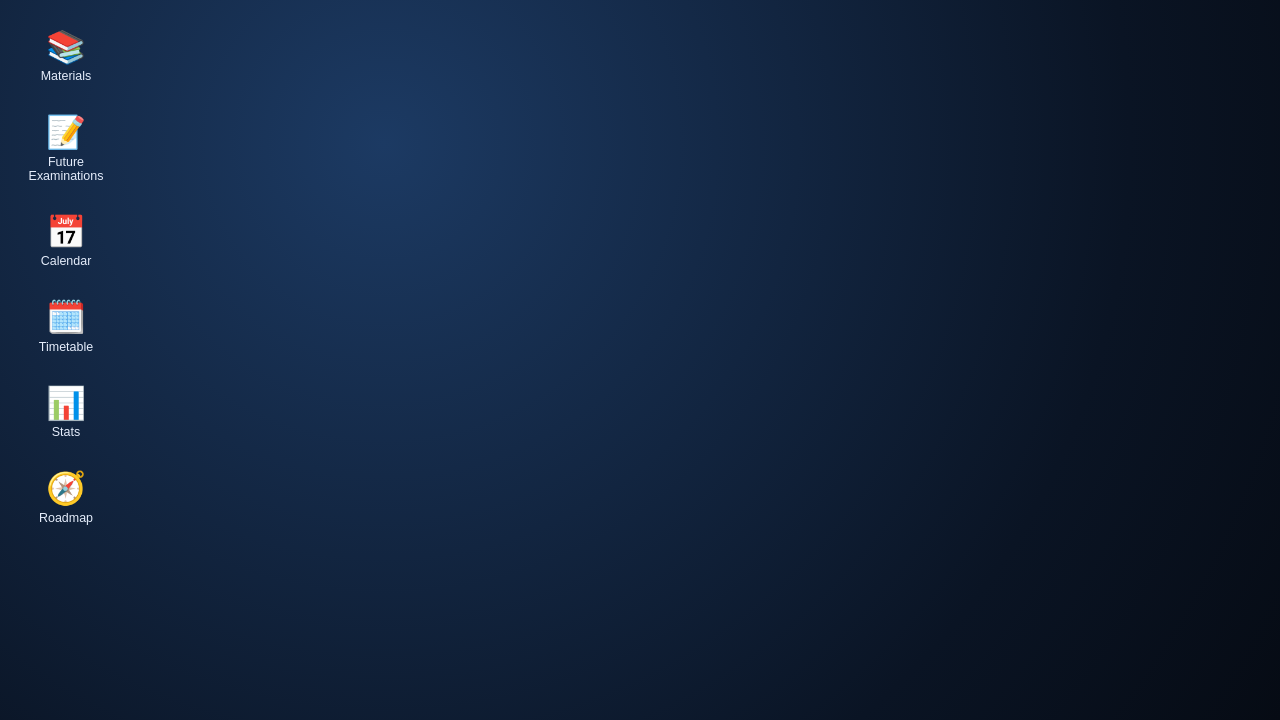
Test: DesktopEnvironment › supports multiple simultaneously open windows
Click the list item with test id "desktop-icon-materials" at [66, 57], box [20,20,112,94]
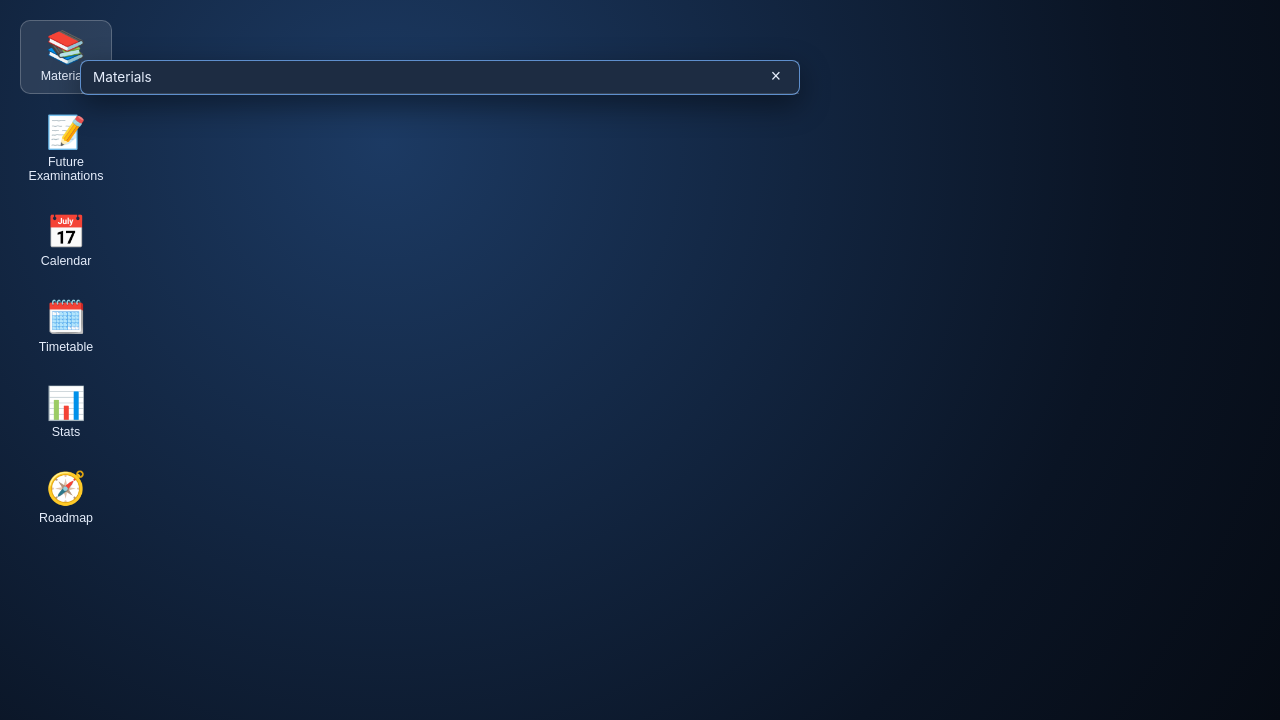
Click the list item with test id "desktop-icon-calendar" at [66, 242], box [20,205,112,279]
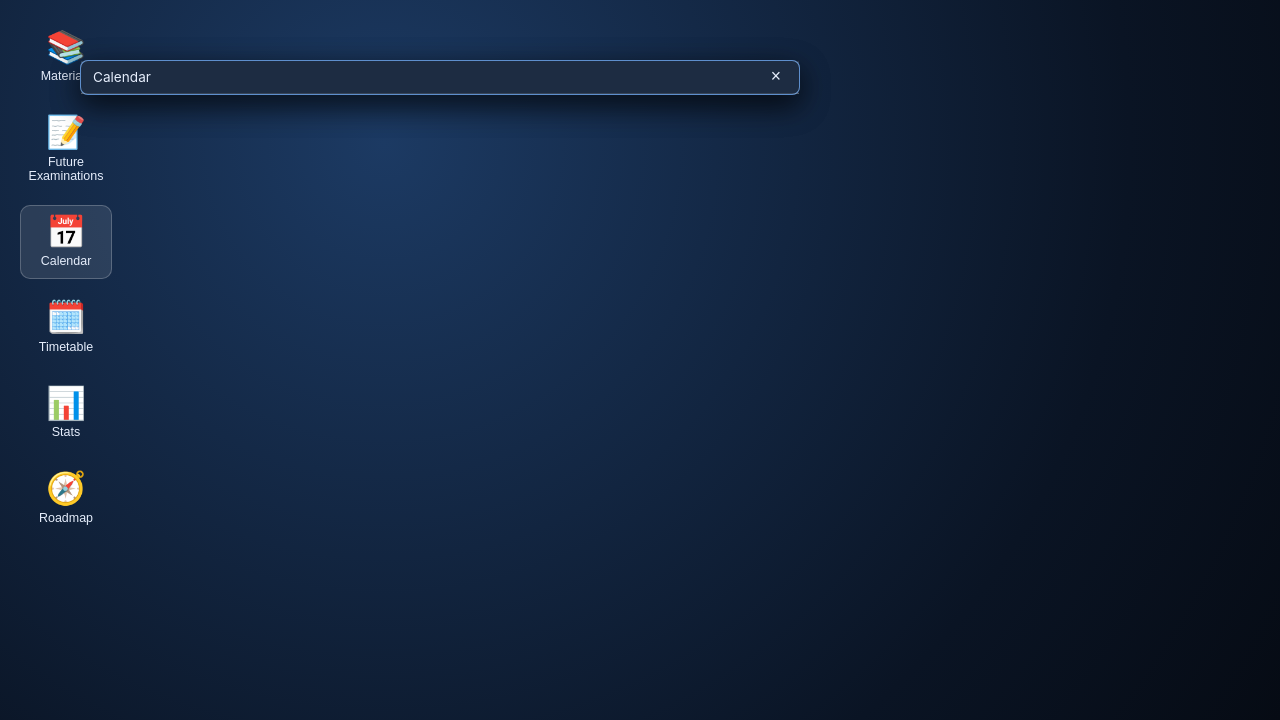
Check: the element with test id "window-calendar" is shown, box [80,60,800,95]
